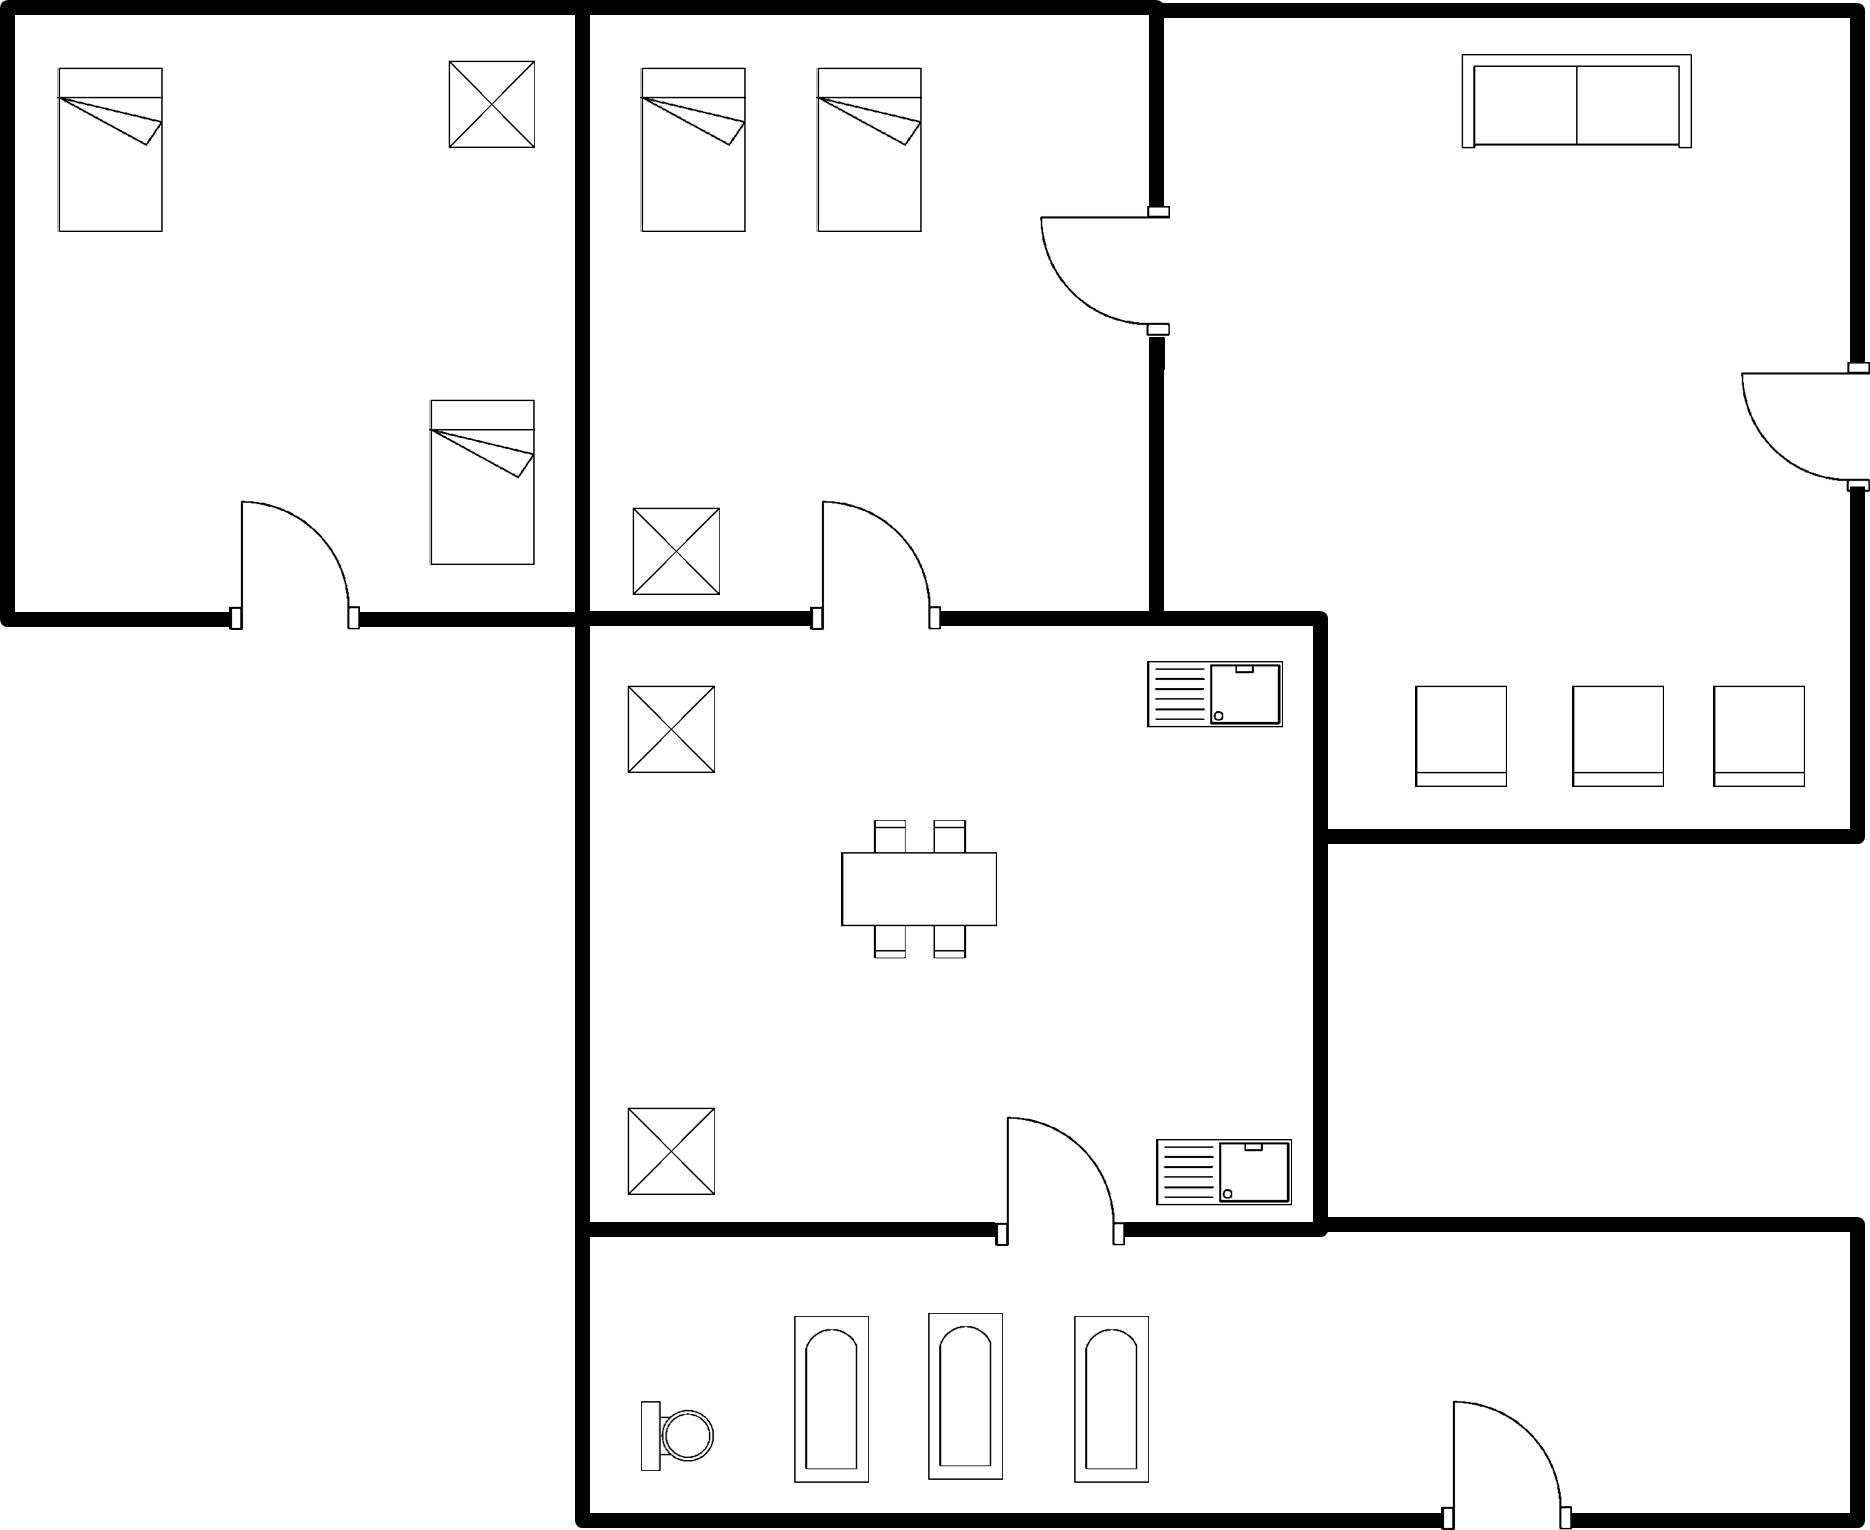bed: (628, 51, 762, 243), (802, 54, 935, 242), (43, 61, 176, 248), (417, 387, 549, 575)
coffee_table: (616, 673, 729, 787), (614, 1097, 729, 1204), (438, 48, 546, 160), (622, 497, 729, 603)
dining_table: (831, 810, 1010, 973)
large_sink: (628, 1390, 714, 1481)
large_sofa: (1450, 45, 1702, 160)
sink: (1138, 649, 1293, 737), (1149, 1128, 1302, 1215)
small_sofa: (1699, 675, 1817, 801), (1561, 675, 1679, 798), (1402, 678, 1519, 795)
tub: (1062, 1304, 1162, 1497), (781, 1304, 881, 1494), (916, 1306, 1013, 1494)
